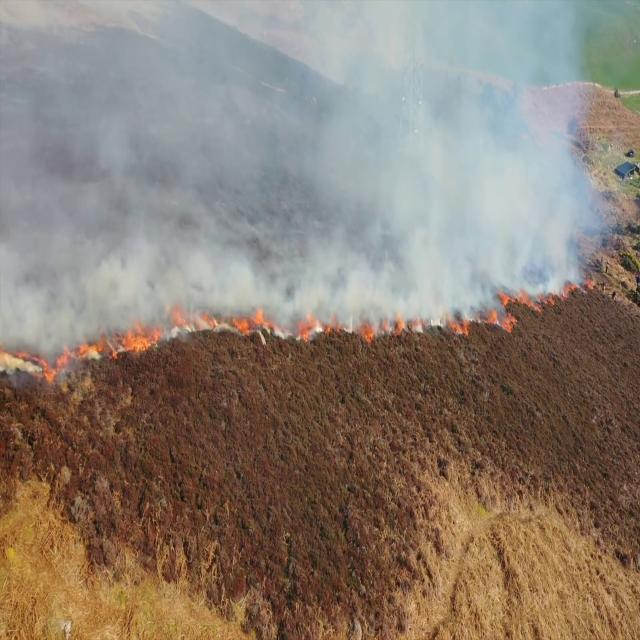Fire: (46, 335, 103, 388), (253, 303, 323, 343), (117, 325, 165, 357), (232, 311, 254, 343)
Smoke: (0, 1, 608, 281), (315, 66, 604, 274), (91, 252, 173, 319)
